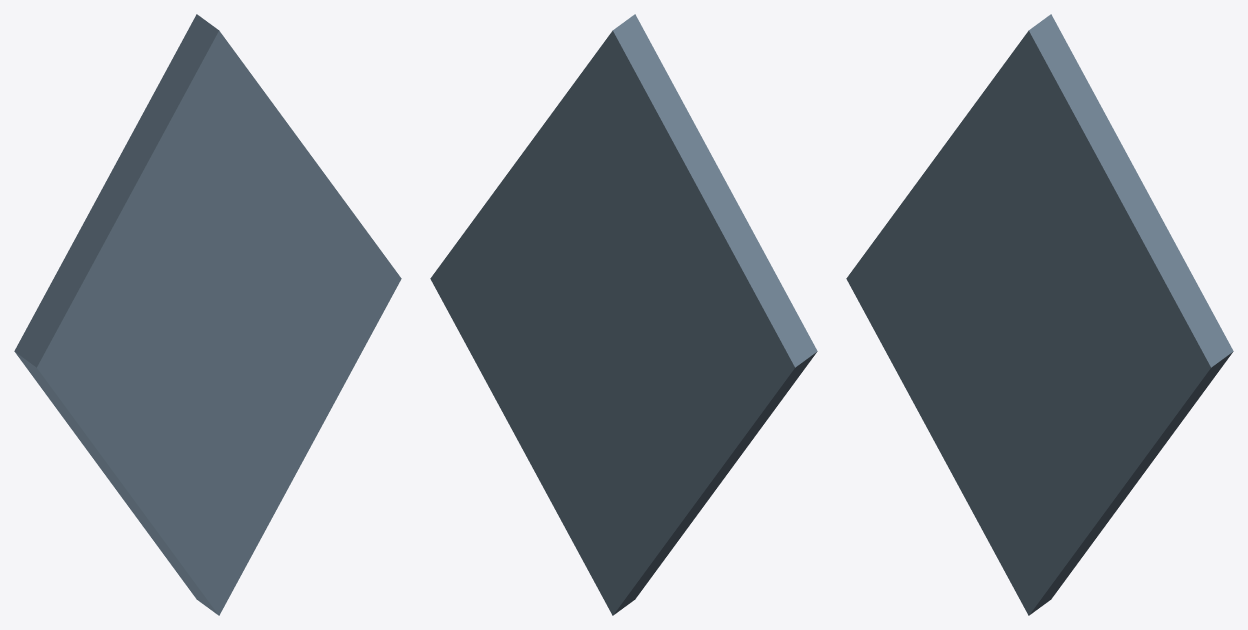
The model's file is badge_eiffel_tower.glb.
3 views of the same model, side by side, from view 1: azimuth 30°, elevation 25°; view 2: azimuth 150°, elevation 25°; view 3: azimuth 330°, elevation 25° (orthographic).
Visible parts, largest first — view 1: badge; view 2: badge; view 3: badge.
Boxes of the visible parts, bbox=[...] form: badge: bbox=[14, 14, 401, 615]; badge: bbox=[430, 14, 817, 615]; badge: bbox=[846, 14, 1233, 615].
Size of the model in its own units: 1.5 by 2.3 by 0.16.
